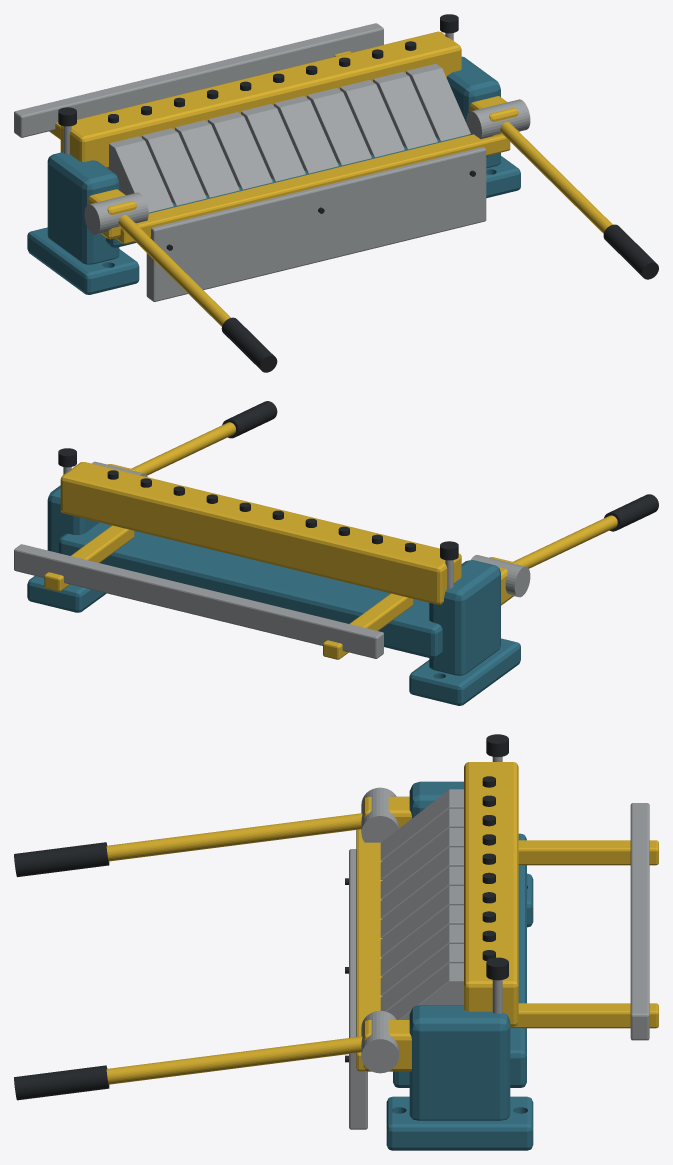
File: full.glb
3 views of the same model, one above another, from view 1: azimuth 30°, elevation 25°; view 2: azimuth 150°, elevation 25°; view 3: azimuth 270°, elevation 25° (orthographic). The views are drawn at different scales.
Parts seen in each view (by area): view 1: Long bending apron, Upper clamp beam, Rear stock fence, Apron upper edge, End bearing casting -0.63, Mounting foot -0.63, Segmented clamp finger 0, Segmented clamp finger 2, Segmented clamp finger 7, Segmented clamp finger 6, Segmented clamp finger 8, Segmented clamp finger 9 (+15 smaller); view 2: Upper clamp beam, Fixed long bed, Rear stock fence, End bearing casting -0.63, Mounting foot -0.63, Mounting foot 0.63, Rear support arm 0.46, Rear support arm -0.46, Long twin lever -0.63, Long twin lever 0.63, End bearing casting 0.63, Long grip 0.63 (+2 smaller); view 3: Upper clamp beam, End bearing casting 0.63, Mounting foot 0.63, Rear stock fence, Apron upper edge, Long twin lever -0.63, Long twin lever 0.63, Rear support arm 0.46, Rear support arm -0.46, Long bending apron, Fixed long bed, Long grip 0.63 (+16 smaller).
Part boxes in pixels (left/top/right/bottom): Long bending apron: left=146, top=147, right=486, bottom=301; Upper clamp beam: left=60, top=31, right=461, bottom=168; Rear stock fence: left=14, top=23, right=383, bottom=137; Apron upper edge: left=115, top=134, right=510, bottom=244; End bearing casting -0.63: left=47, top=152, right=119, bottom=264; Mounting foot -0.63: left=27, top=227, right=139, bottom=294; Segmented clamp finger 0: left=108, top=136, right=173, bottom=212; Segmented clamp finger 2: left=175, top=120, right=239, bottom=197; Segmented clamp finger 7: left=340, top=80, right=404, bottom=157; Segmented clamp finger 6: left=307, top=88, right=371, bottom=165; Segmented clamp finger 8: left=373, top=72, right=437, bottom=149; Segmented clamp finger 9: left=406, top=63, right=470, bottom=141; Upper clamp beam: left=60, top=462, right=461, bottom=604; Fixed long bed: left=59, top=522, right=442, bottom=658; Rear stock fence: left=14, top=544, right=383, bottom=658; End bearing casting -0.63: left=429, top=560, right=500, bottom=675; Mounting foot -0.63: left=409, top=638, right=520, bottom=705; Mounting foot 0.63: left=27, top=576, right=106, bottom=612; Rear support arm 0.46: left=44, top=525, right=134, bottom=591; Rear support arm -0.46: left=323, top=593, right=413, bottom=659; Long twin lever -0.63: left=513, top=515, right=617, bottom=568; Long twin lever 0.63: left=131, top=422, right=235, bottom=475; End bearing casting 0.63: left=47, top=485, right=99, bottom=552; Long grip 0.63: left=222, top=401, right=277, bottom=438; Upper clamp beam: left=464, top=762, right=518, bottom=1026; End bearing casting 0.63: left=409, top=1005, right=510, bottom=1120; Mounting foot 0.63: left=386, top=1096, right=533, bottom=1150; Rear stock fence: left=630, top=803, right=649, bottom=1040; Apron upper edge: left=356, top=829, right=382, bottom=1071; Long twin lever -0.63: left=106, top=813, right=362, bottom=861; Long twin lever 0.63: left=106, top=1036, right=362, bottom=1084; Rear support arm 0.46: left=510, top=1003, right=658, bottom=1028; Rear support arm -0.46: left=518, top=840, right=658, bottom=865; Long bending apron: left=349, top=849, right=367, bottom=1129; Fixed long bed: left=393, top=833, right=526, bottom=1087; Long grip 0.63: left=14, top=1065, right=109, bottom=1100.
Bounding box in the file's own units: 1.44 × 0.48 × 1.54.
